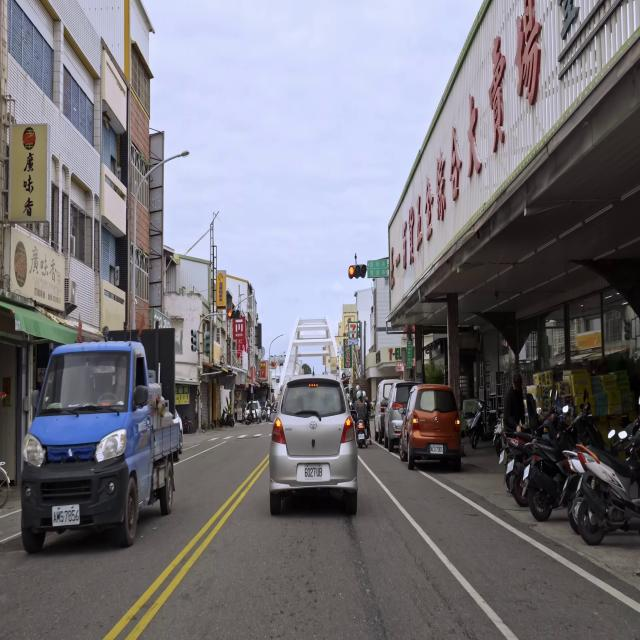red light: (348, 264, 367, 277), (228, 310, 240, 318)
